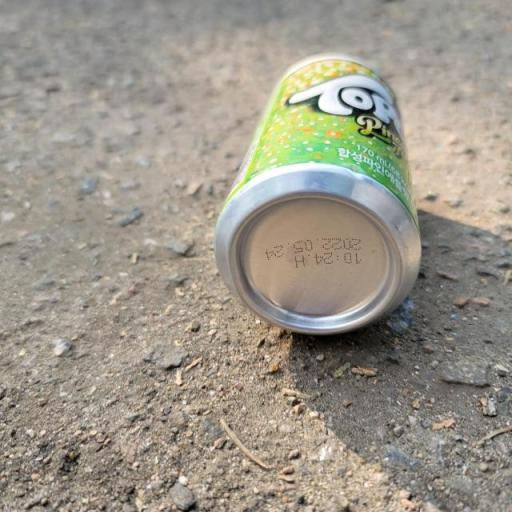metal: (184, 38, 434, 368)
